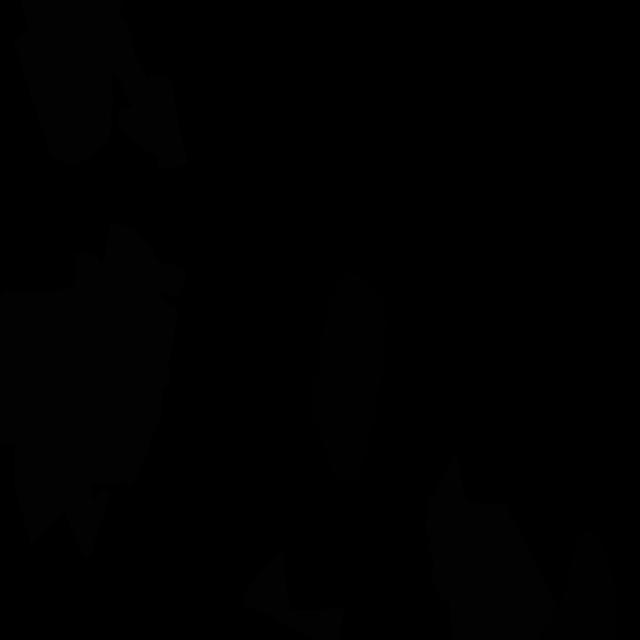cardboard: (0, 253, 178, 560), (13, 0, 188, 170), (425, 451, 558, 640), (243, 548, 347, 640), (102, 223, 187, 328)
rigid_plastic: (309, 273, 388, 483), (540, 530, 619, 640)
